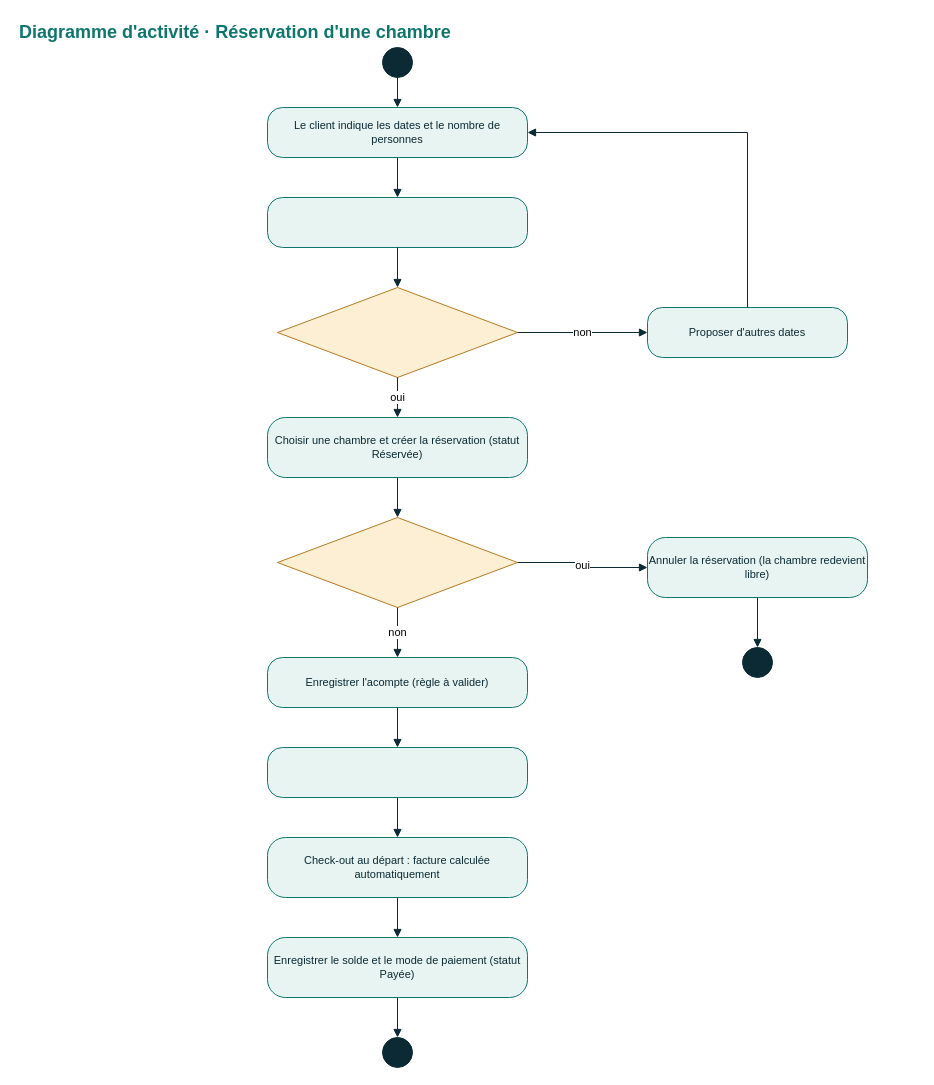
The diagram is 934 pixels wide and 1085 high, and some of its shapes have lost their labels. The box of each missing label's shape, as (x1, y1, x2, y2) in pixels:
Check-in à l'arrivée (statut Occupée): (266, 746, 528, 798)
Le client annule ?: (276, 516, 518, 608)
Rechercher les chambres libres: (266, 196, 528, 248)
Une chambre est libre ?: (276, 286, 518, 378)
